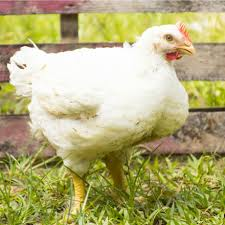chicken: (5, 14, 205, 225)
